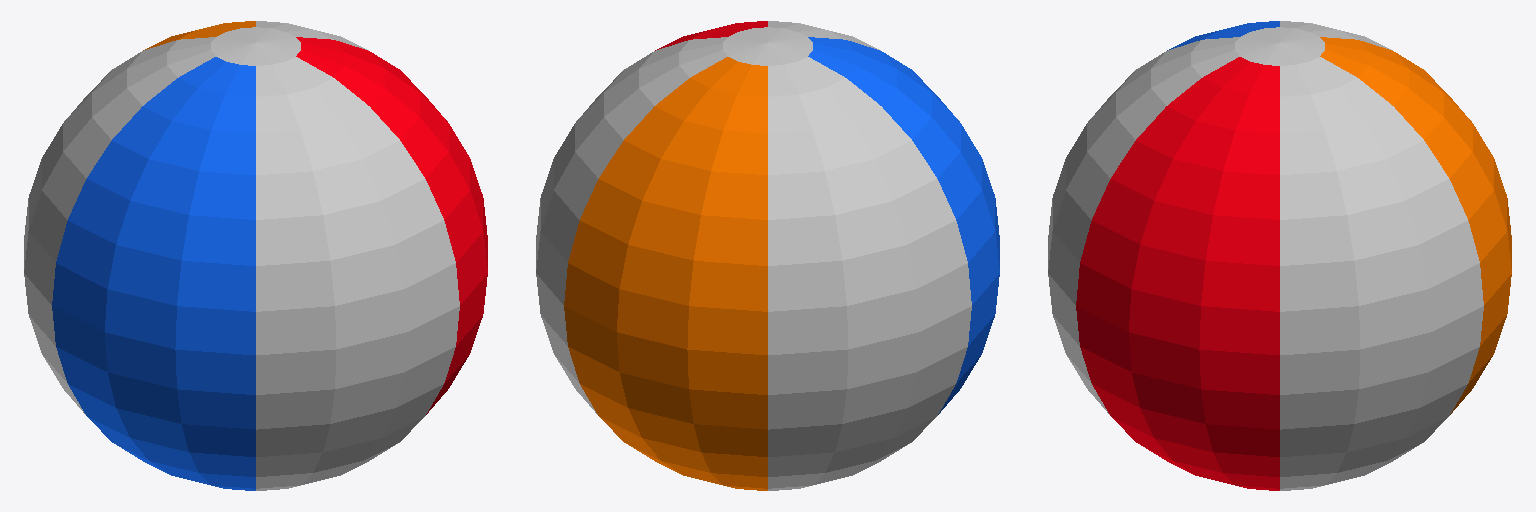
File: ball.obj
3 renders of one model, left to right at view 1: azimuth 30°, elevation 25°; view 2: azimuth 150°, elevation 25°; view 3: azimuth 270°, elevation 25°, orthographic.
Parts seen in each view (by area): view 1: ball_Sphere.015; view 2: ball_Sphere.015; view 3: ball_Sphere.015.
Boxes of the visible parts, x1=… form: ball_Sphere.015: x1=24, y1=21, x2=487, y2=490; ball_Sphere.015: x1=536, y1=21, x2=999, y2=490; ball_Sphere.015: x1=1048, y1=21, x2=1511, y2=490.
Bounding box in the file's own units: 2 × 2 × 1.97.